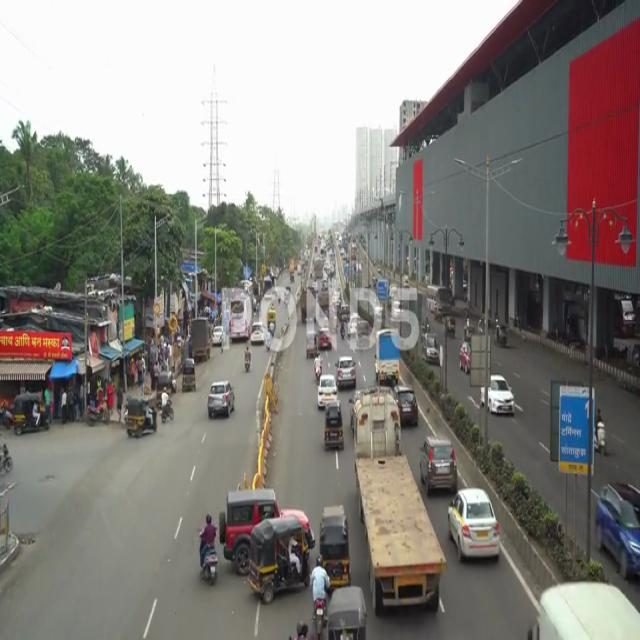car: (594, 476, 640, 578), (446, 490, 502, 560), (417, 430, 459, 496), (487, 372, 519, 416), (206, 378, 237, 423)
motorbike: (196, 510, 221, 589)
rikshaw: (255, 518, 310, 604), (324, 401, 345, 453)
truck: (349, 379, 451, 626)
